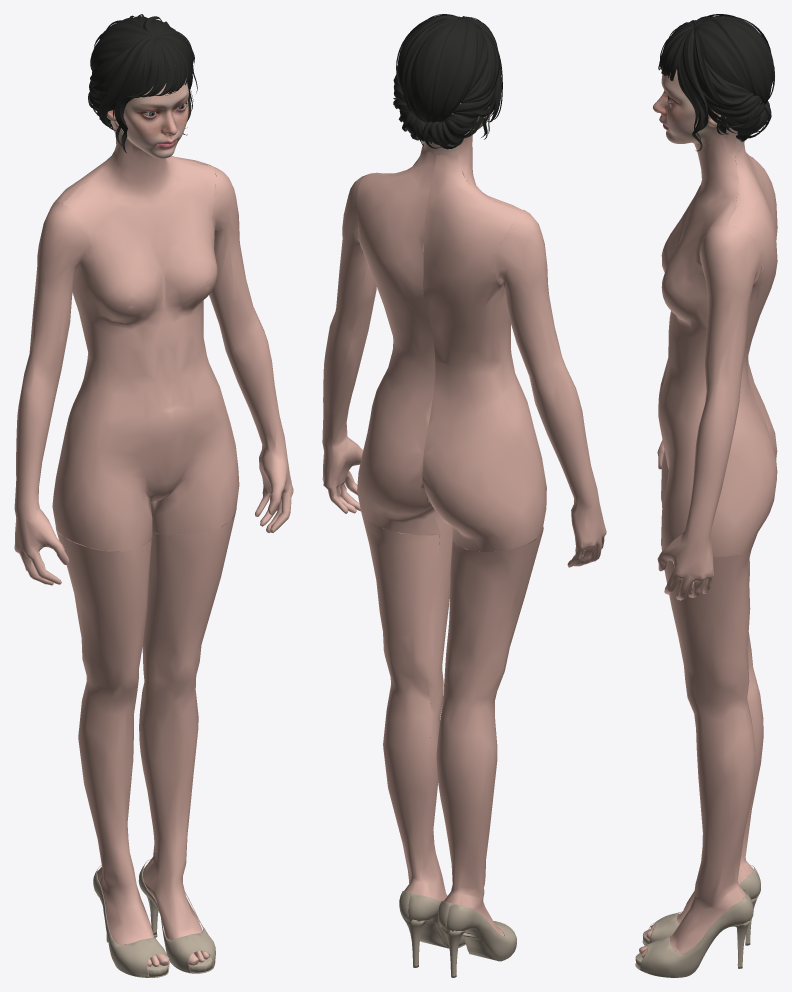
File: womenOnePieceDressBodyModel.glb
The picture shows the model from 3 angles, left to right: view 1: azimuth 30°, elevation 25°; view 2: azimuth 150°, elevation 25°; view 3: azimuth 270°, elevation 25°; orthographic projection.
Parts seen in each view (by area): view 1: body.003, body; view 2: body.003, body; view 3: body.003, body.
Boxes of the visible parts, x1=… form: body.003: x1=14, y1=78, x2=293, y2=977; body: x1=88, y1=14, x2=197, y2=152; body.003: x1=322, y1=103, x2=606, y2=977; body: x1=393, y1=14, x2=502, y2=149; body.003: x1=635, y1=69, x2=777, y2=977; body: x1=658, y1=14, x2=774, y2=151.
Size of the model in its own units: 57 by 190 by 26.02.
Materials: 7 (3 with a texture image).
